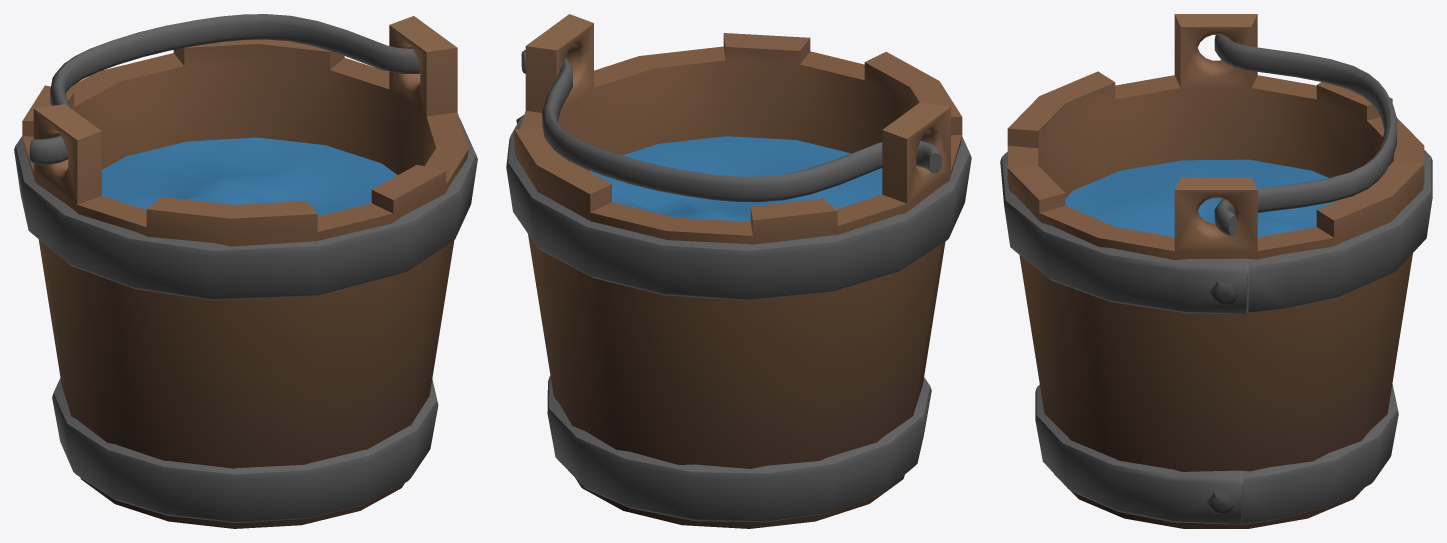
Rendered from Bucket_2.fbx.
The picture shows the model from 3 angles, left to right: view 1: azimuth 30°, elevation 25°; view 2: azimuth 150°, elevation 25°; view 3: azimuth 270°, elevation 25°; orthographic projection. The views are drawn at different scales.
Visible parts, largest first — view 1: Bucket_2; view 2: Bucket_2; view 3: Bucket_2.
Part boxes in pixels (box(x1,y1,x2,y2)): Bucket_2: box(14, 14, 477, 528); Bucket_2: box(506, 14, 971, 528); Bucket_2: box(1000, 14, 1432, 528).
Bounding box in the file's own units: 52.41 × 45.2 × 49.45.
